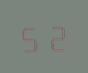five: (19, 20, 43, 53)
two: (44, 19, 68, 52)
